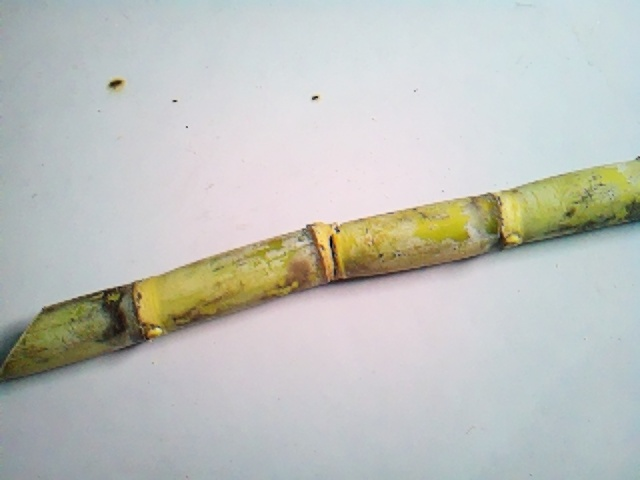Good Sugarcane: (0, 153, 640, 381)
Node: (289, 218, 359, 286), (108, 277, 171, 344), (475, 188, 523, 254)
